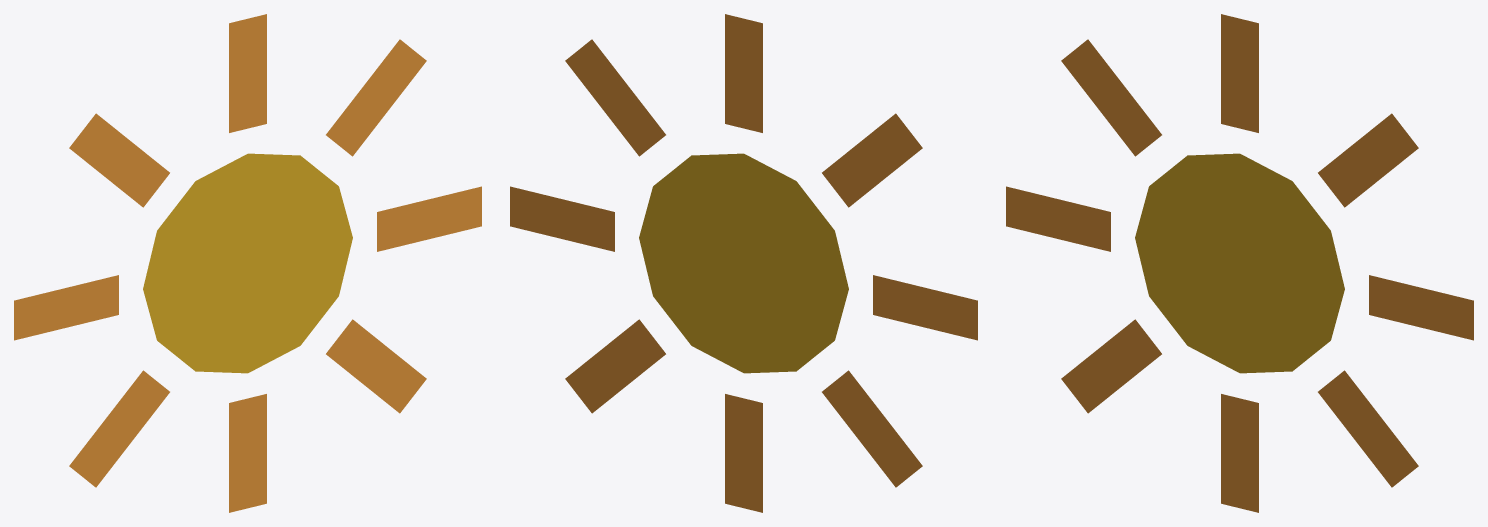
File: sun.glb
3 renders of one model, left to right at view 1: azimuth 30°, elevation 25°; view 2: azimuth 150°, elevation 25°; view 3: azimuth 330°, elevation 25°, orthographic.
Parts seen in each view (by area): view 1: sun; view 2: sun; view 3: sun.
Boxes of the visible parts, bbox=[...] form: sun: bbox=[14, 14, 481, 512]; sun: bbox=[510, 14, 977, 512]; sun: bbox=[1006, 14, 1473, 512].
Bounding box in the file's own units: 0.98 × 0.98 × 0.
1 material, 1 textured.
